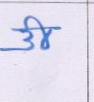i_matra: (27, 16, 52, 50)
